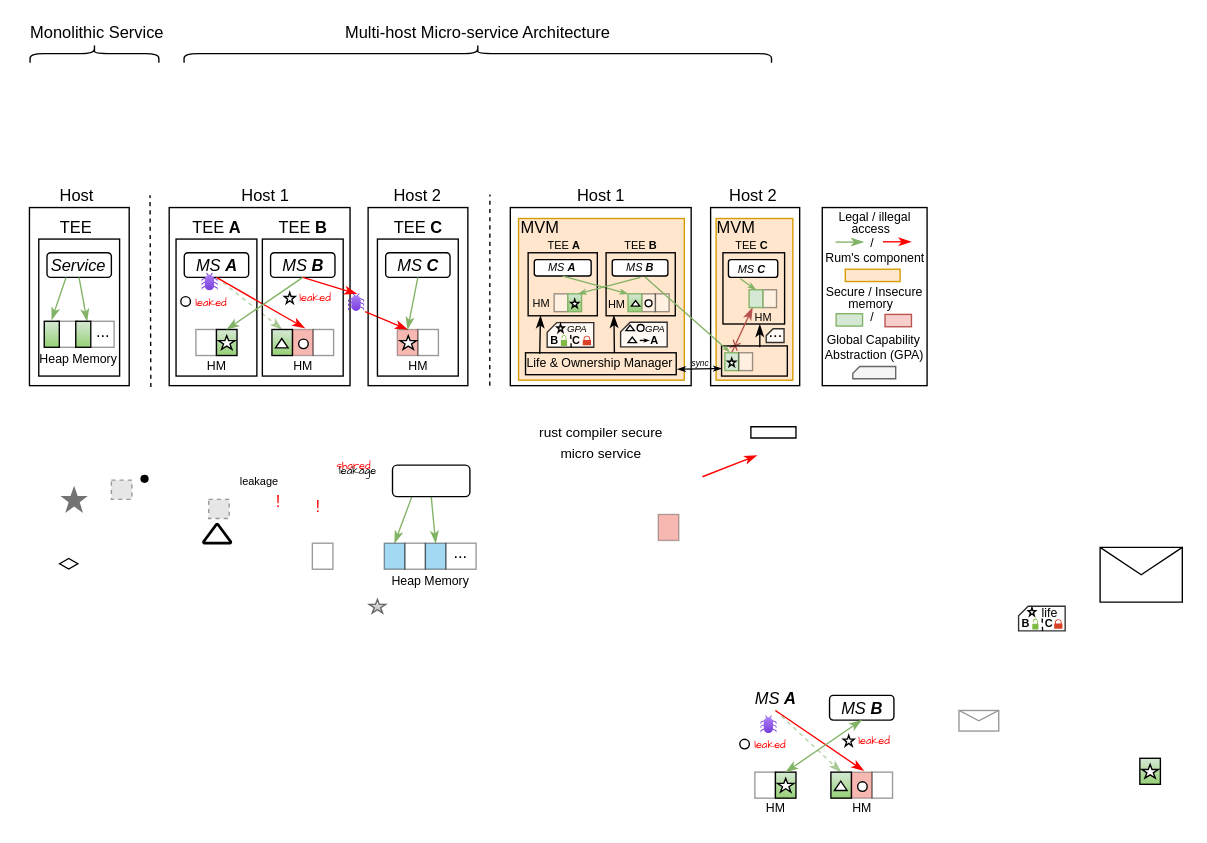
This 1207x843 diagram has some shape labels left out. Grey dashed boxes stand in for pictures. Each missing label, with the centre of its shape:
"accidental access" belongs at [143,478].
"LOM" belongs at [753,360].
